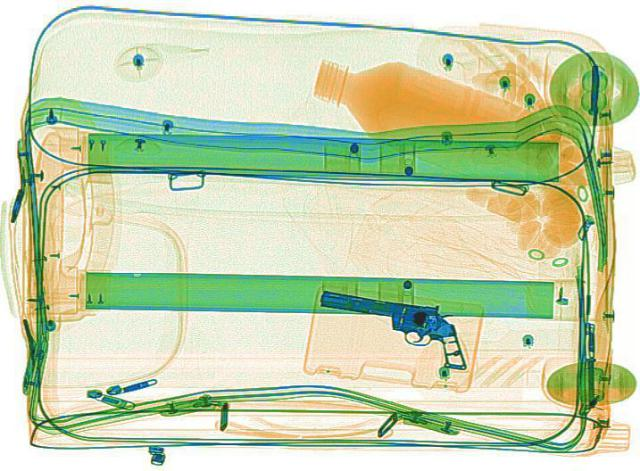Gun: (303, 287, 485, 370)
